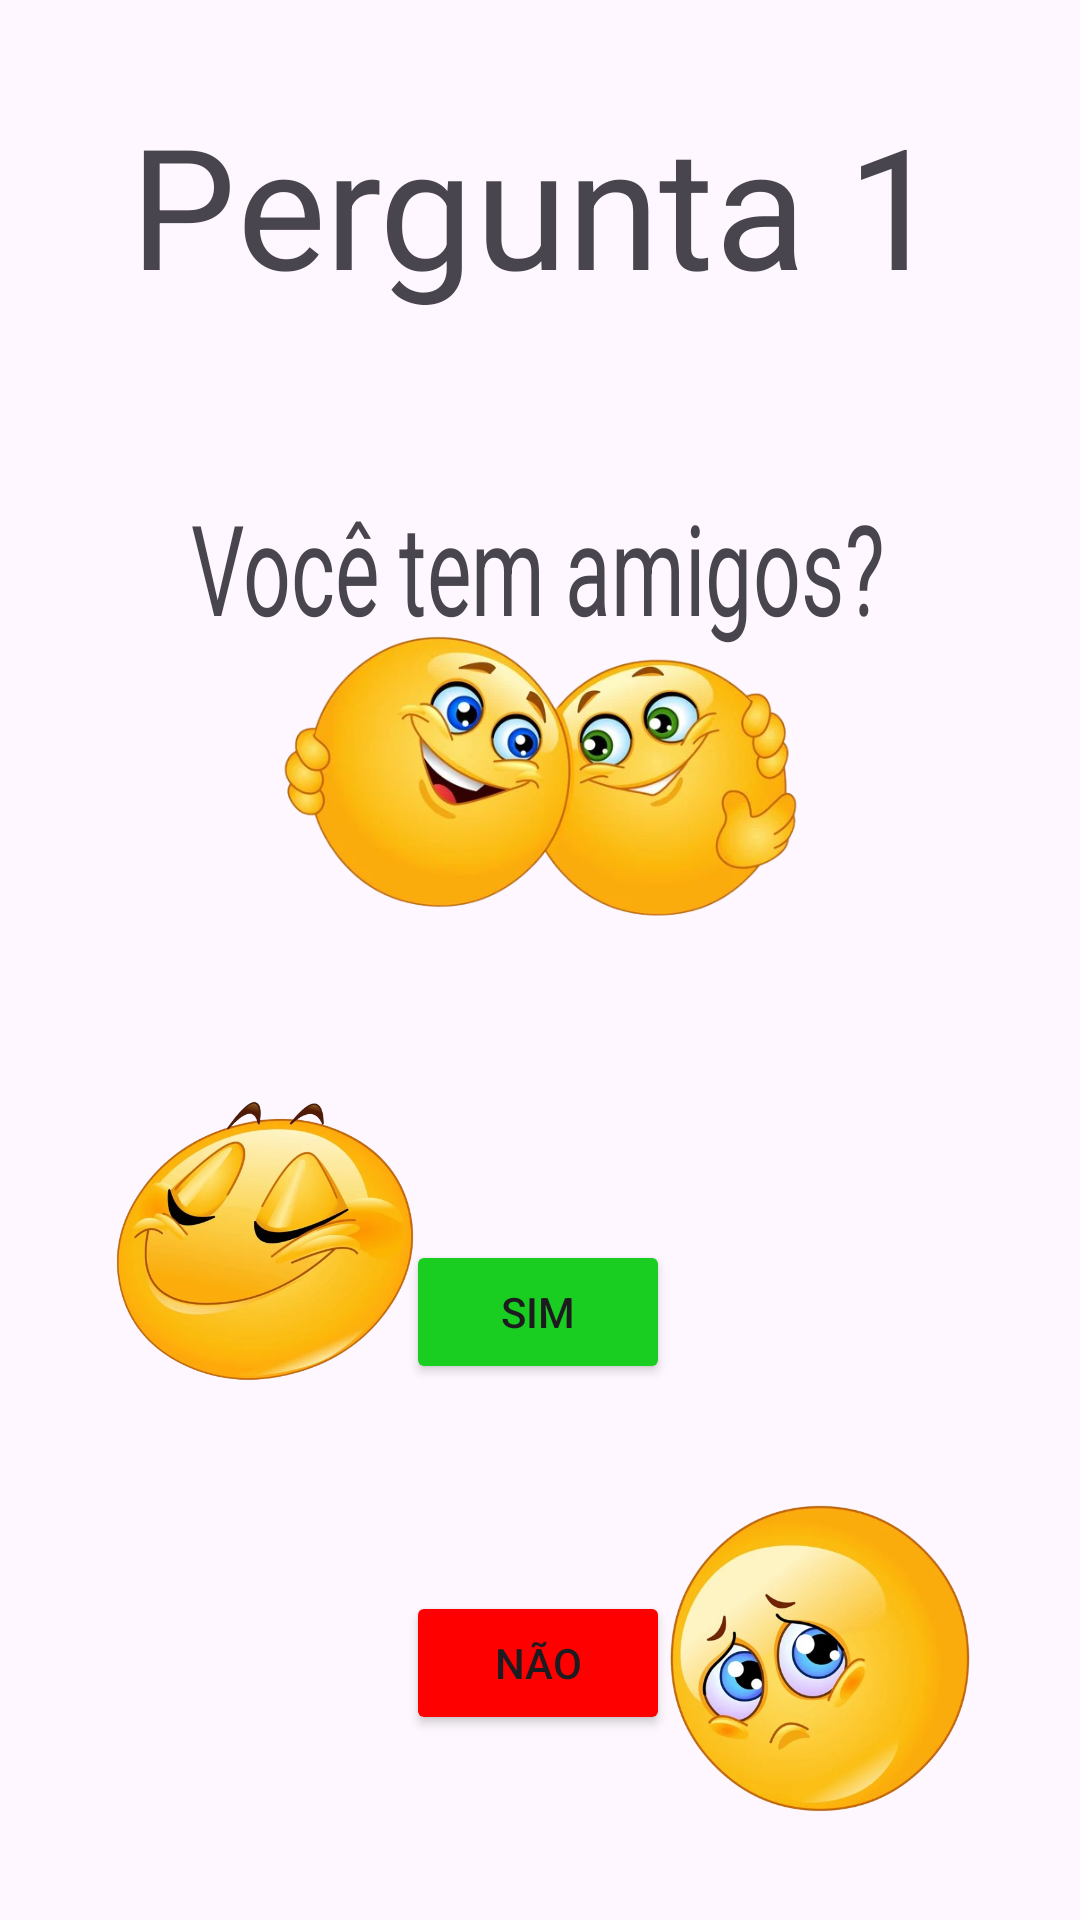

Icon bounding boxes for this 1080px×1920px phone screenshot, format box=[x1, y1, x2, y2]:
orgulhoso: box=[117, 1102, 413, 1380]
triste: box=[670, 1505, 970, 1811]
